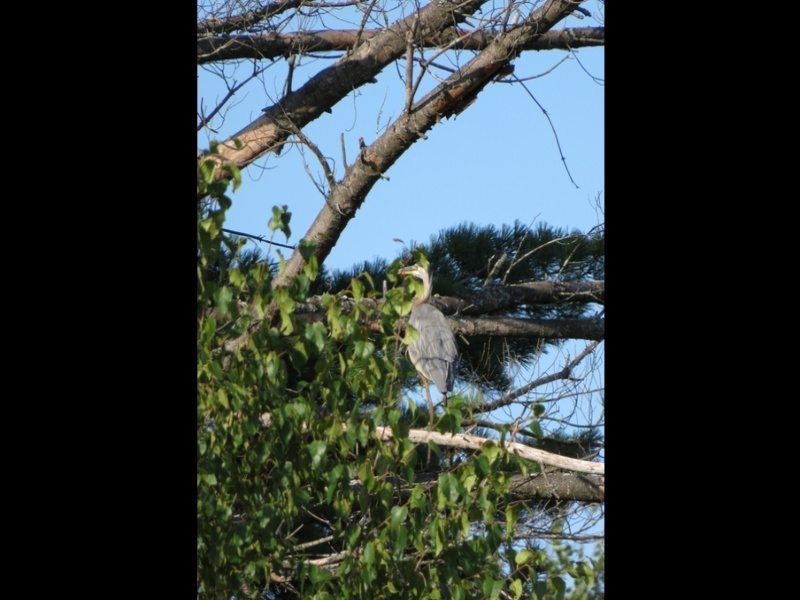heron: (393, 258, 466, 435)
